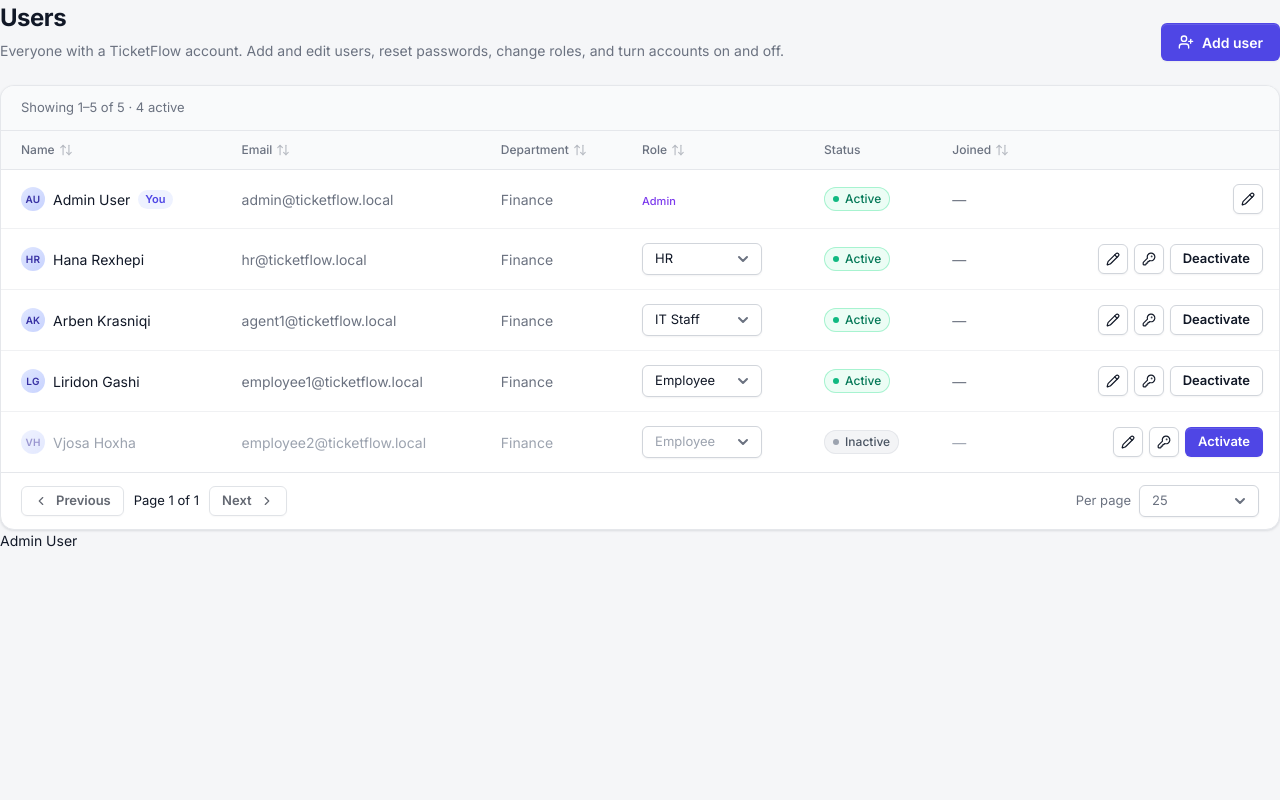
Test: Edit user form › Cancel and Escape close it without saving
The width and height of the screenshot is (1280, 800).
Expected: the table is shown, [1, 131, 1279, 472]
Click the button named "Edit Arben Krasniqi".
click(1113, 320)  # box [1098, 305, 1128, 335]
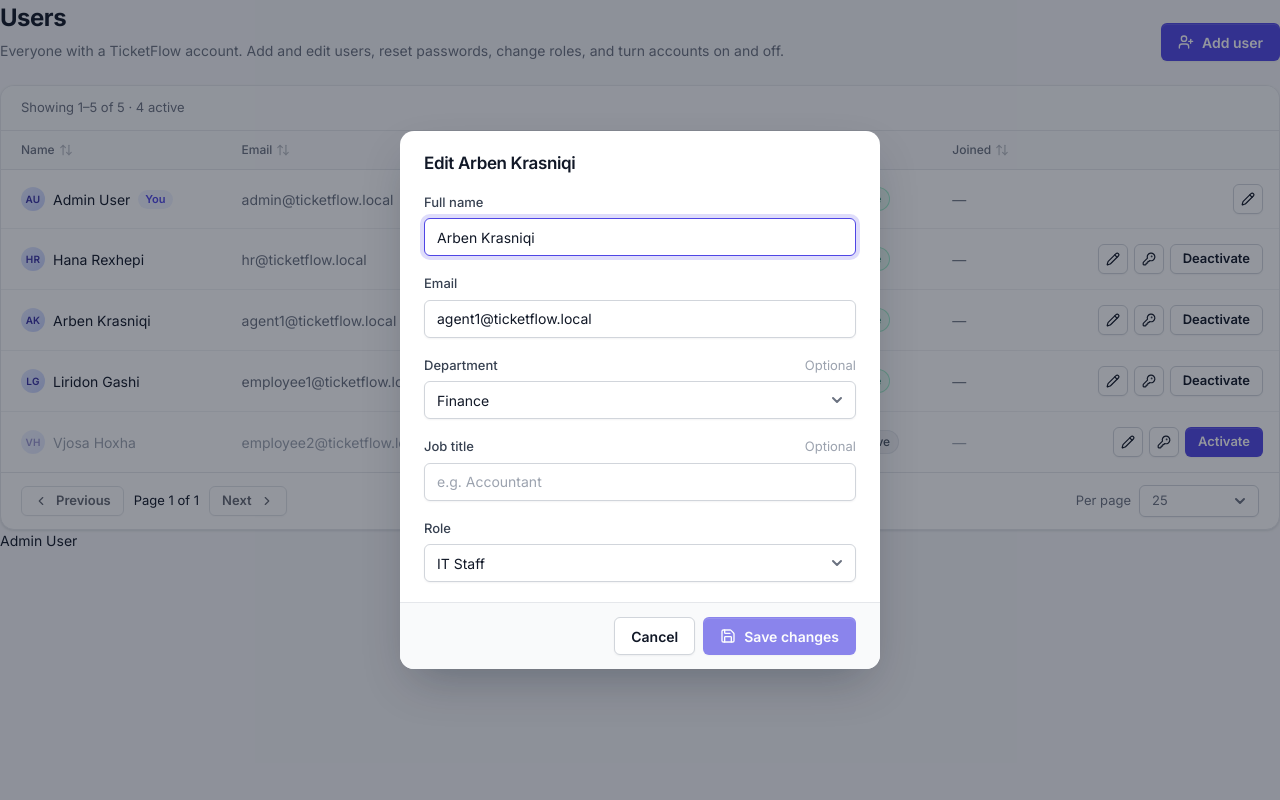
Type " changed" into the field labelled "Full name".
click(640, 237); type(" changed")  # box [424, 218, 856, 256]
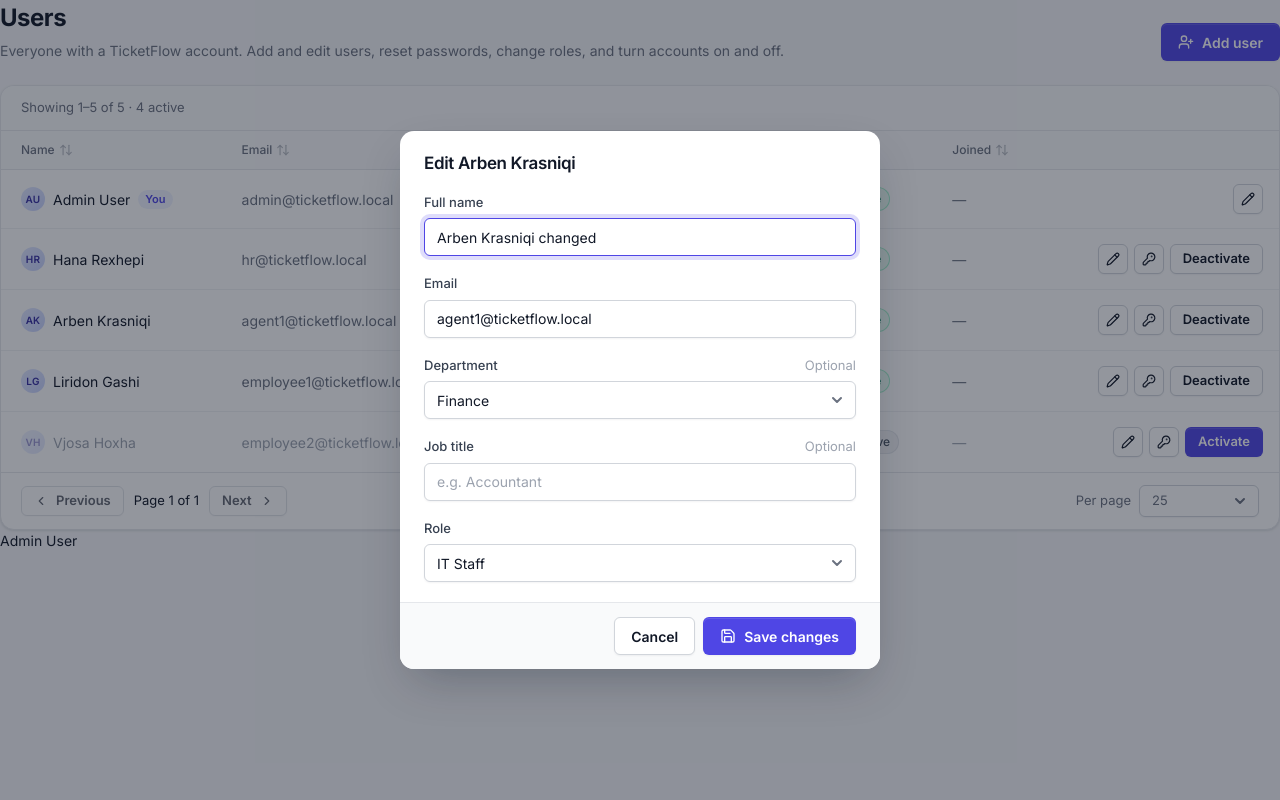
Click the button "Cancel".
click(655, 636)  # box [614, 617, 695, 655]
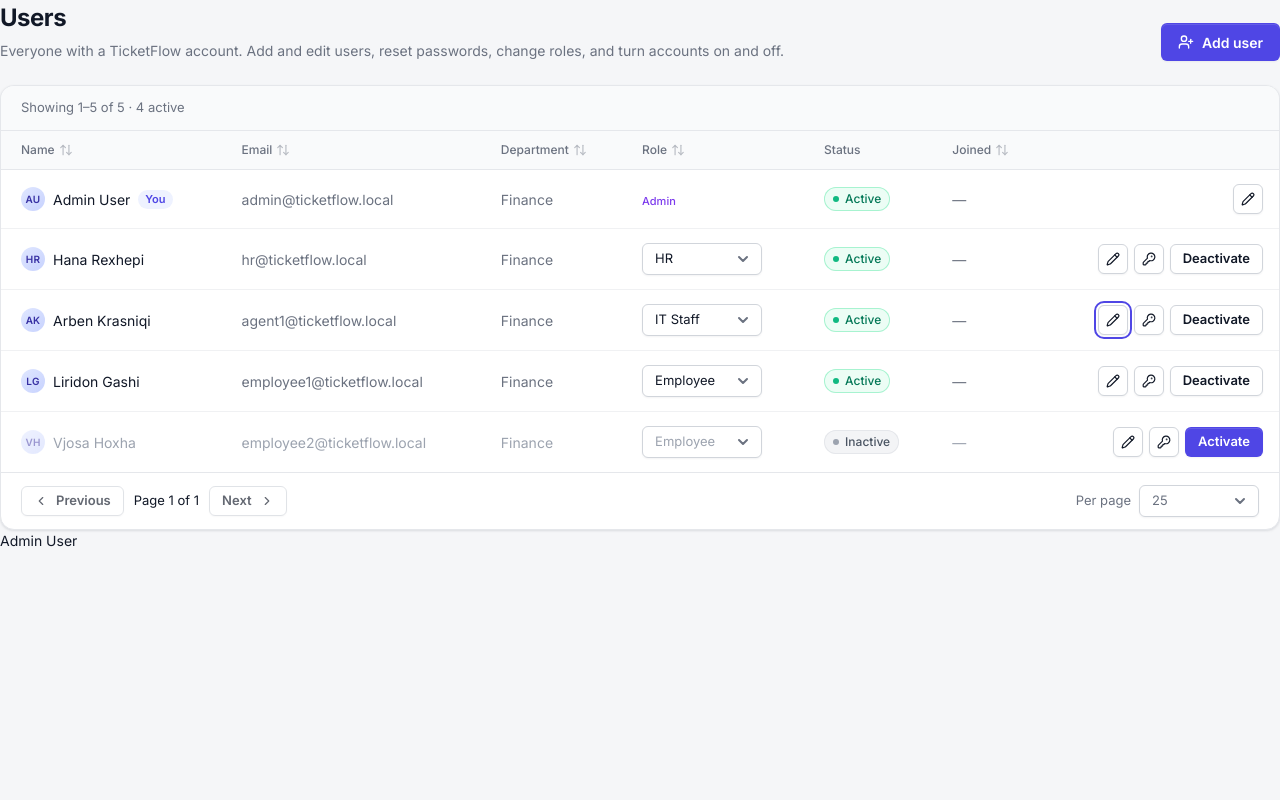
Expected: the table is shown, [1, 131, 1279, 472]
Expected: the dialog is gone
Click the button named "Edit Arben Krasniqi".
click(1113, 320)  # box [1098, 305, 1128, 335]
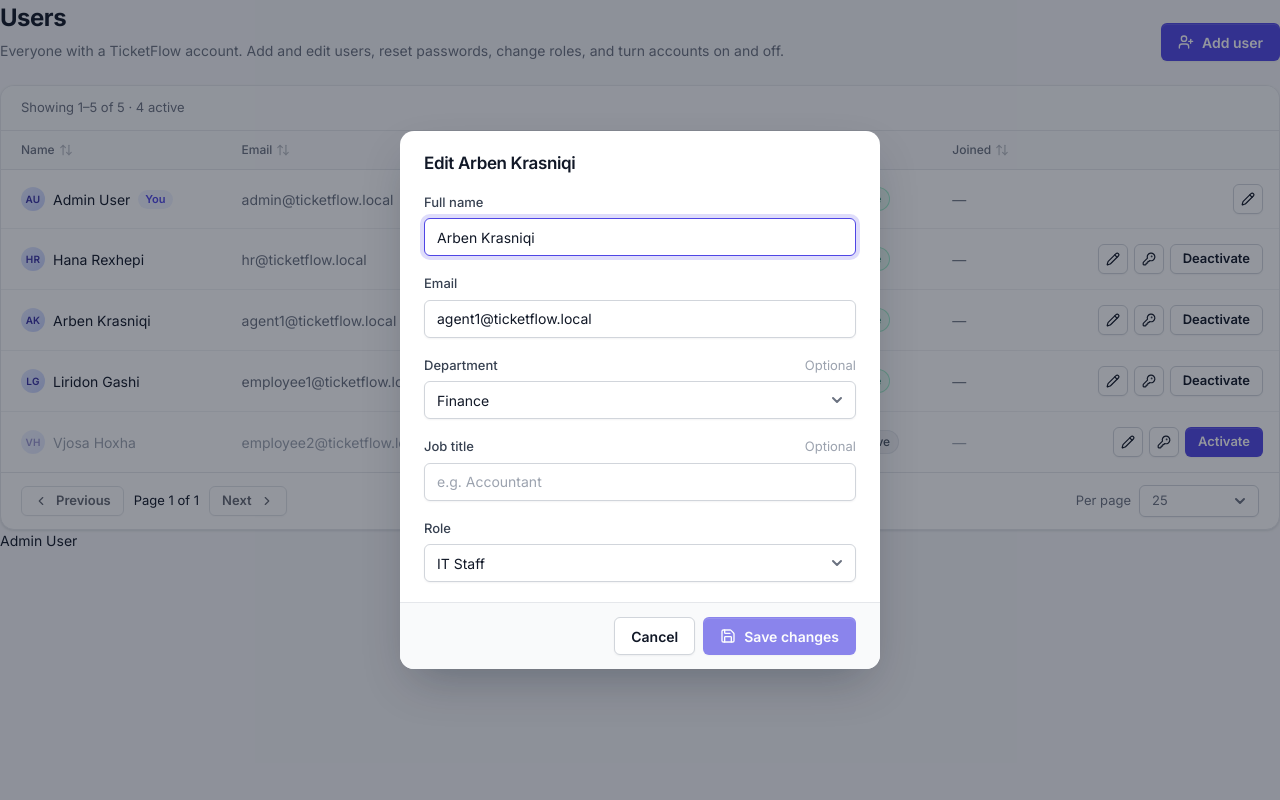
Press Escape
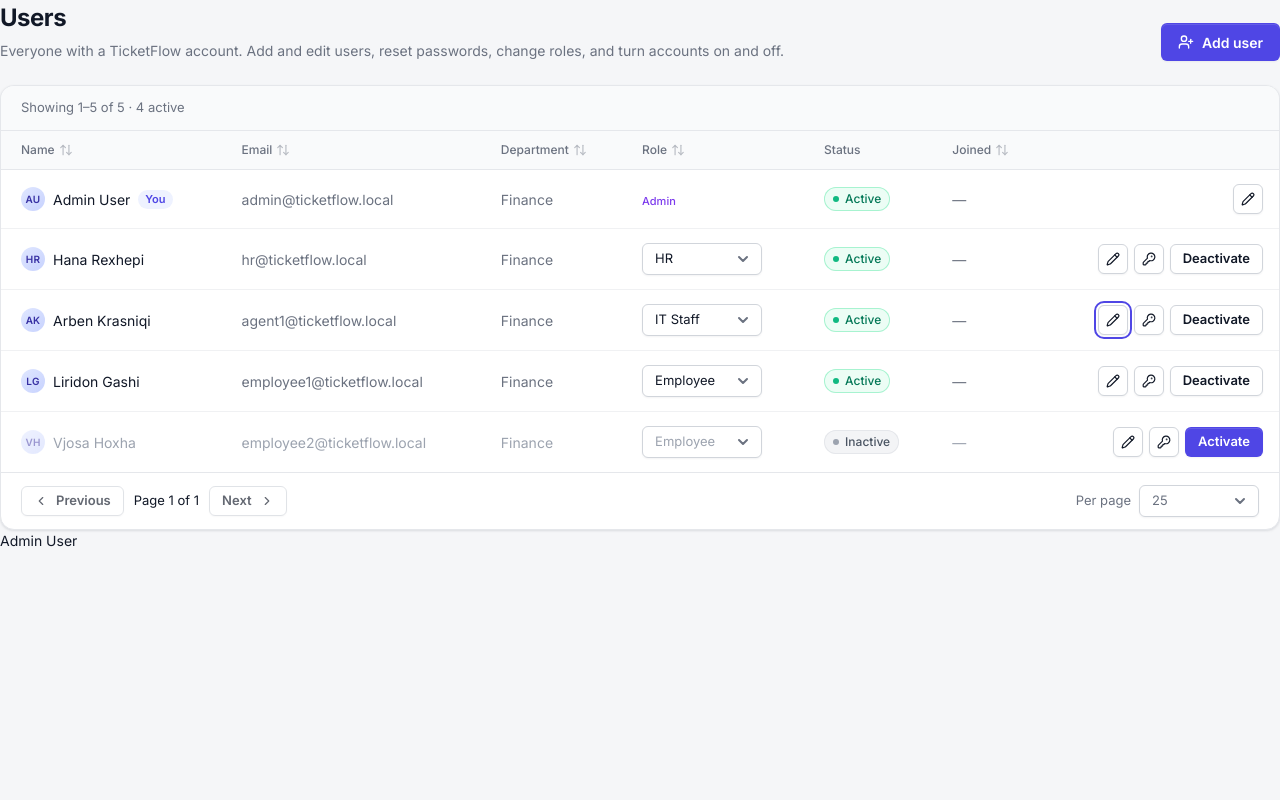
Expected: the dialog is gone
